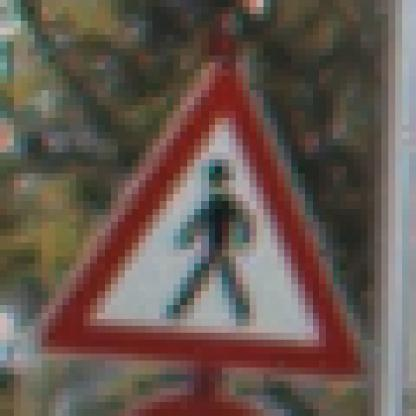crosswalk: (31, 47, 370, 395)
